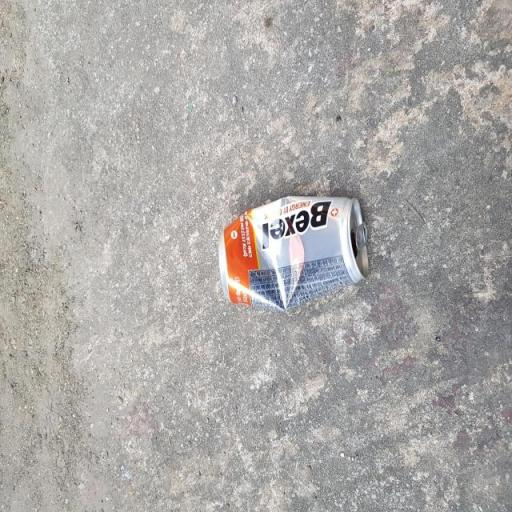metal: (173, 171, 401, 335)
